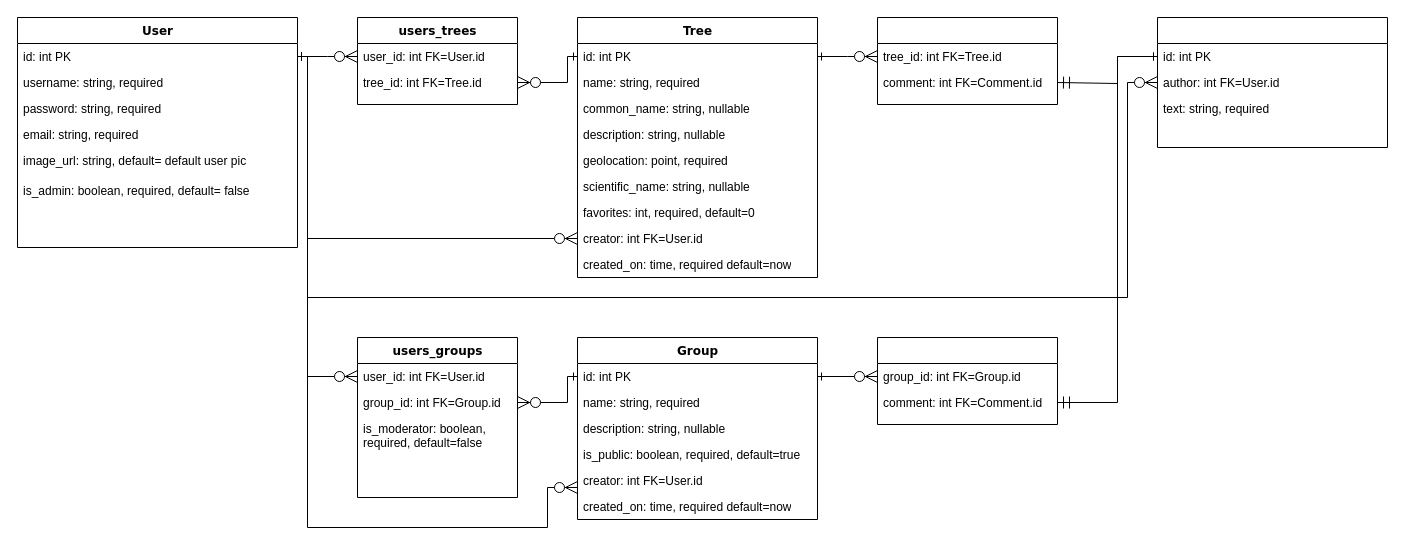
This 1405x557 diagram has some shape labels left out. The shapes that lost their labels are listed below. From the top down, each one's box as (x1, y1, x2, y2) in pixels, then its label:
(876, 16, 1058, 104): trees_comments
(1156, 16, 1388, 148): Comment
(876, 336, 1058, 424): groups_comments
